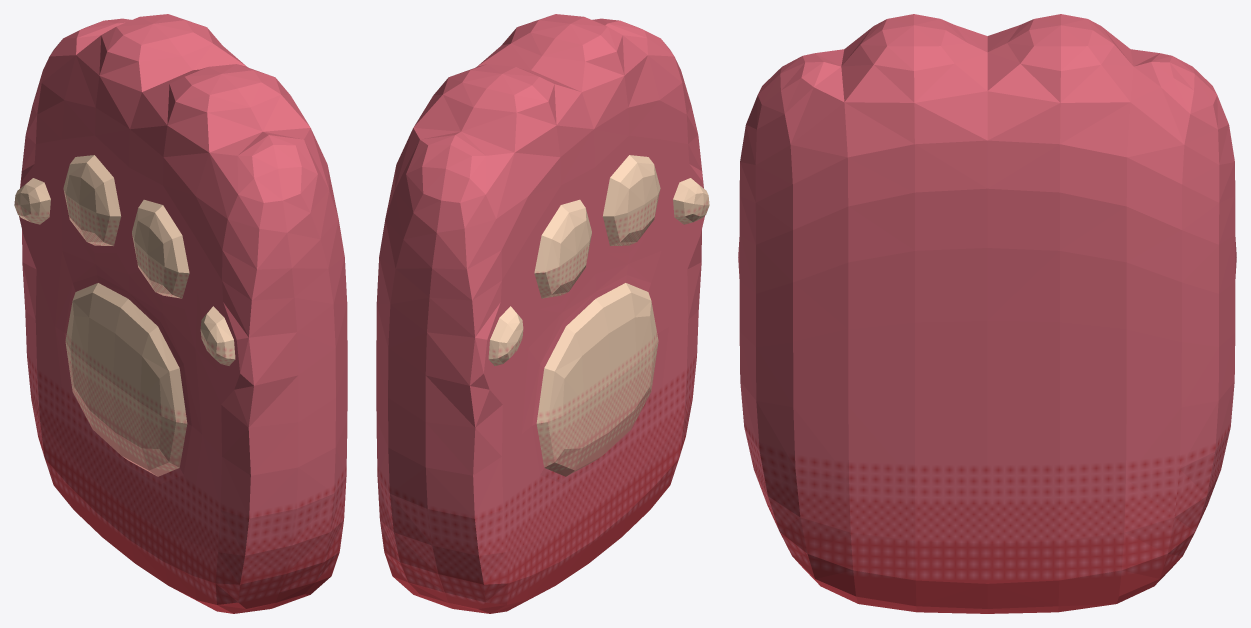
The model's file is PawV5.dae.
The picture shows the model from 3 angles, left to right: view 1: azimuth 30°, elevation 25°; view 2: azimuth 150°, elevation 25°; view 3: azimuth 270°, elevation 25°; orthographic projection. The views are drawn at different scales.
Visible parts, largest first — view 1: Paw; view 2: Paw; view 3: Paw.
Boxes of the visible parts, x1,y1,x2,y2 form: Paw: (14,14,347,613); Paw: (376,14,709,613); Paw: (738,14,1236,613).
Size of the model in its own units: 0.9777 by 2.38 by 2.95.
1 material, 1 textured.
